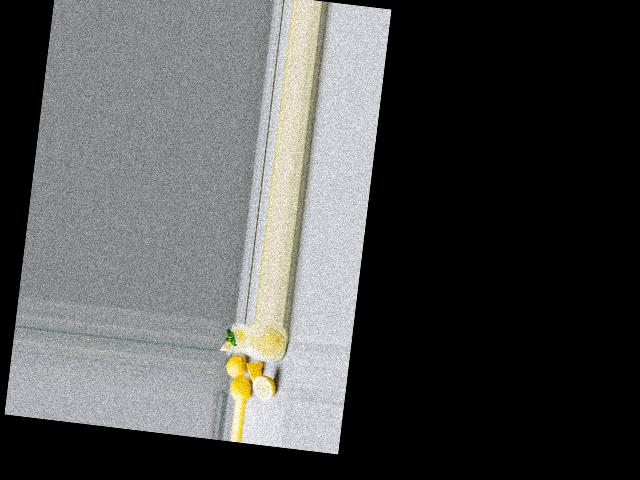lemon: (230, 370, 252, 401)
